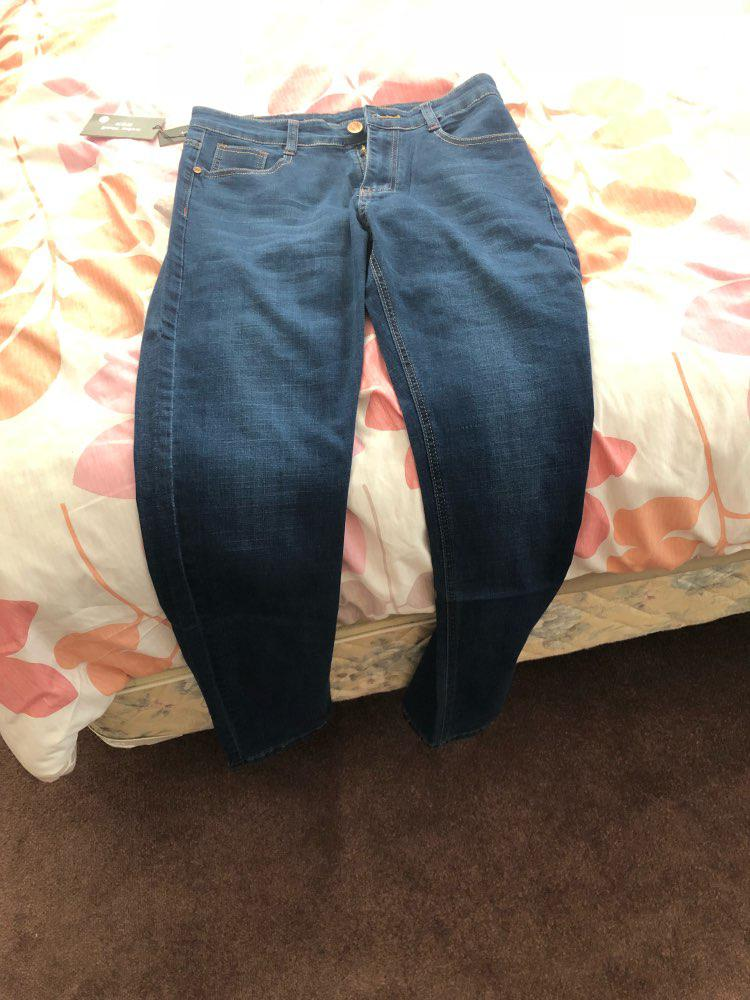jeans: (106, 90, 574, 775)
